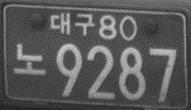0: (119, 14, 137, 42)
2: (87, 44, 117, 101)
7: (148, 47, 178, 104)
8: (118, 45, 147, 100), (98, 13, 117, 40)
9: (55, 41, 82, 99)
노: (12, 43, 47, 77)
대구_O: (49, 12, 95, 37)
